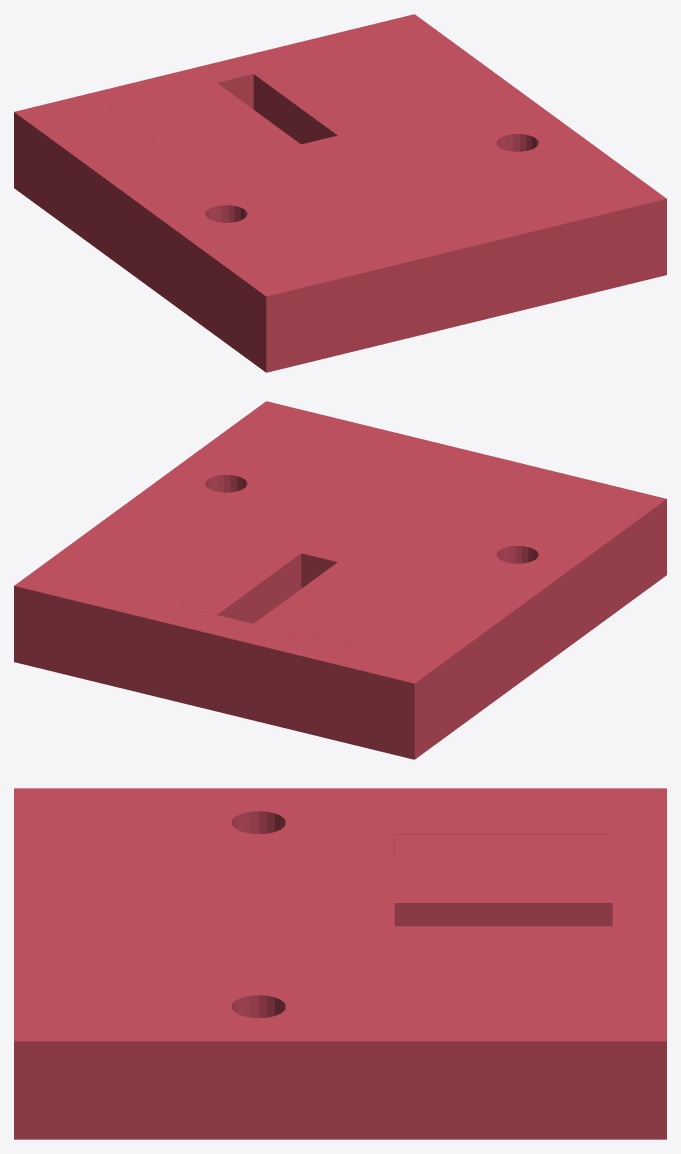
The model's file is Learning the Moves (1).glb.
The picture shows the model from 3 angles, top to bottom: view 1: azimuth 30°, elevation 25°; view 2: azimuth 150°, elevation 25°; view 3: azimuth 270°, elevation 25°; orthographic projection. The views are drawn at different scales.
Parts seen in each view (by area): view 1: Mesh_Mesh_head_geo.001_lambert2SG.001; view 2: Mesh_Mesh_head_geo.001_lambert2SG.001; view 3: Mesh_Mesh_head_geo.001_lambert2SG.001.
Boxes of the visible parts, x1,y1,x2,y2 form: Mesh_Mesh_head_geo.001_lambert2SG.001: [14, 14, 666, 372]; Mesh_Mesh_head_geo.001_lambert2SG.001: [14, 401, 666, 759]; Mesh_Mesh_head_geo.001_lambert2SG.001: [14, 788, 666, 1139].
Size of the model in its own units: 11 by 2 by 12.
